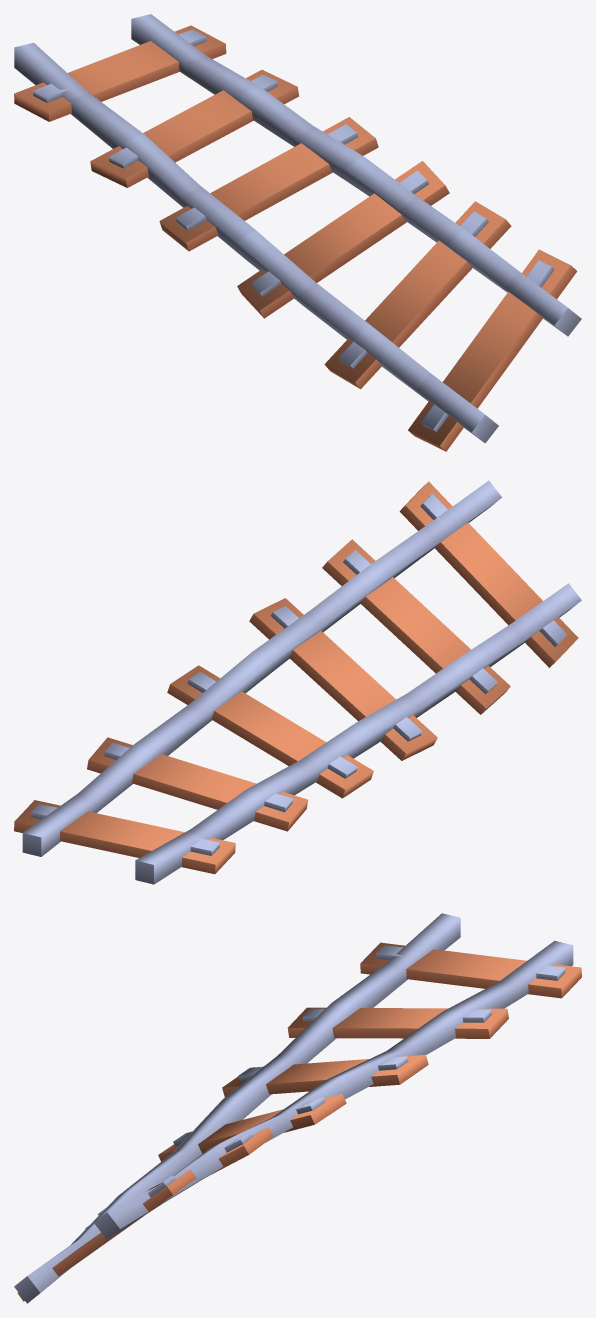
File: kenney-train-railroad-damaged-straight-skew-right.glb
The picture shows the model from 3 angles, top to bottom: view 1: azimuth 30°, elevation 25°; view 2: azimuth 150°, elevation 25°; view 3: azimuth 330°, elevation 25°; orthographic projection. The views are drawn at different scales.
Parts seen in each view (by area): view 1: railroad-damaged-straight-skew-right; view 2: railroad-damaged-straight-skew-right; view 3: railroad-damaged-straight-skew-right.
Boxes of the visible parts, box(x1,y1,x2,y2) form: railroad-damaged-straight-skew-right: box(14, 14, 581, 451); railroad-damaged-straight-skew-right: box(14, 480, 581, 884); railroad-damaged-straight-skew-right: box(14, 913, 581, 1303).
Size of the model in its own units: 1.03 by 0.7246 by 4.
1 material, 1 textured.
